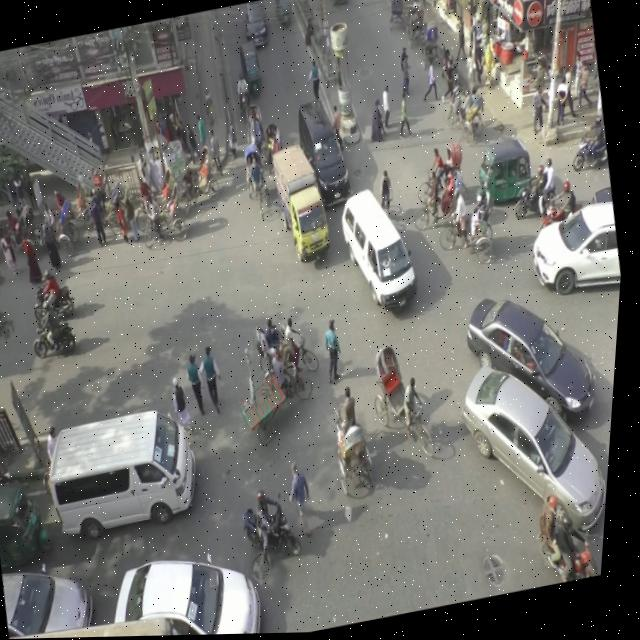cng: (472, 128, 554, 221), (0, 455, 63, 562), (231, 30, 275, 106)
rikshaw: (358, 329, 457, 476), (315, 378, 400, 527), (430, 183, 514, 267), (249, 307, 324, 384), (407, 163, 479, 239), (227, 134, 282, 231), (432, 76, 502, 150), (139, 177, 199, 260), (28, 186, 86, 269), (177, 142, 232, 224), (415, 130, 472, 195), (408, 9, 454, 79), (255, 118, 299, 185), (0, 196, 43, 261), (237, 96, 271, 158), (401, 0, 431, 47), (378, 0, 412, 36)
